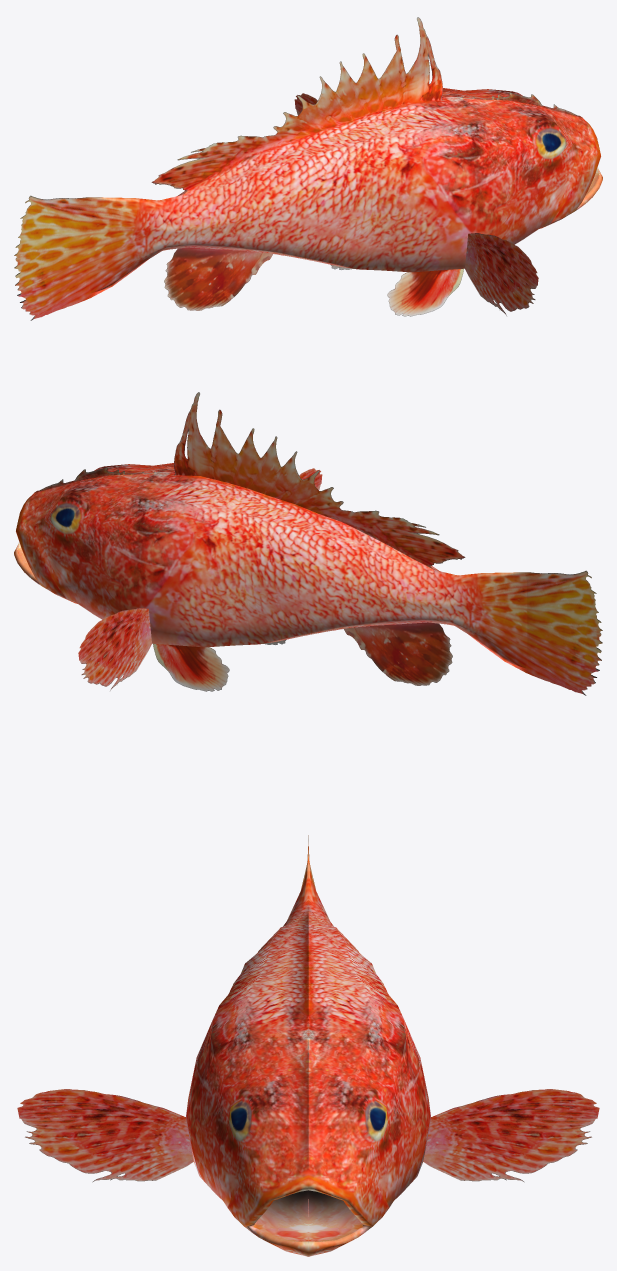
The model's file is ScorpionFish_00.fbx.
3 renders of one model, top to bottom at view 1: azimuth 30°, elevation 25°; view 2: azimuth 150°, elevation 25°; view 3: azimuth 270°, elevation 25°, orthographic. The views are drawn at different scales.
Parts seen in each view (by area): view 1: scorpionfish; view 2: scorpionfish; view 3: scorpionfish.
Boxes of the visible parts, left/top/right/bottom form: scorpionfish: left=14, top=17, right=602, bottom=320; scorpionfish: left=14, top=392, right=602, bottom=695; scorpionfish: left=17, top=835, right=599, bottom=1256.
Bounding box in the file's own units: 36.73 × 16.32 × 26.77.
